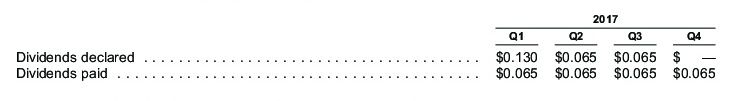table: (0, 0, 732, 101)
